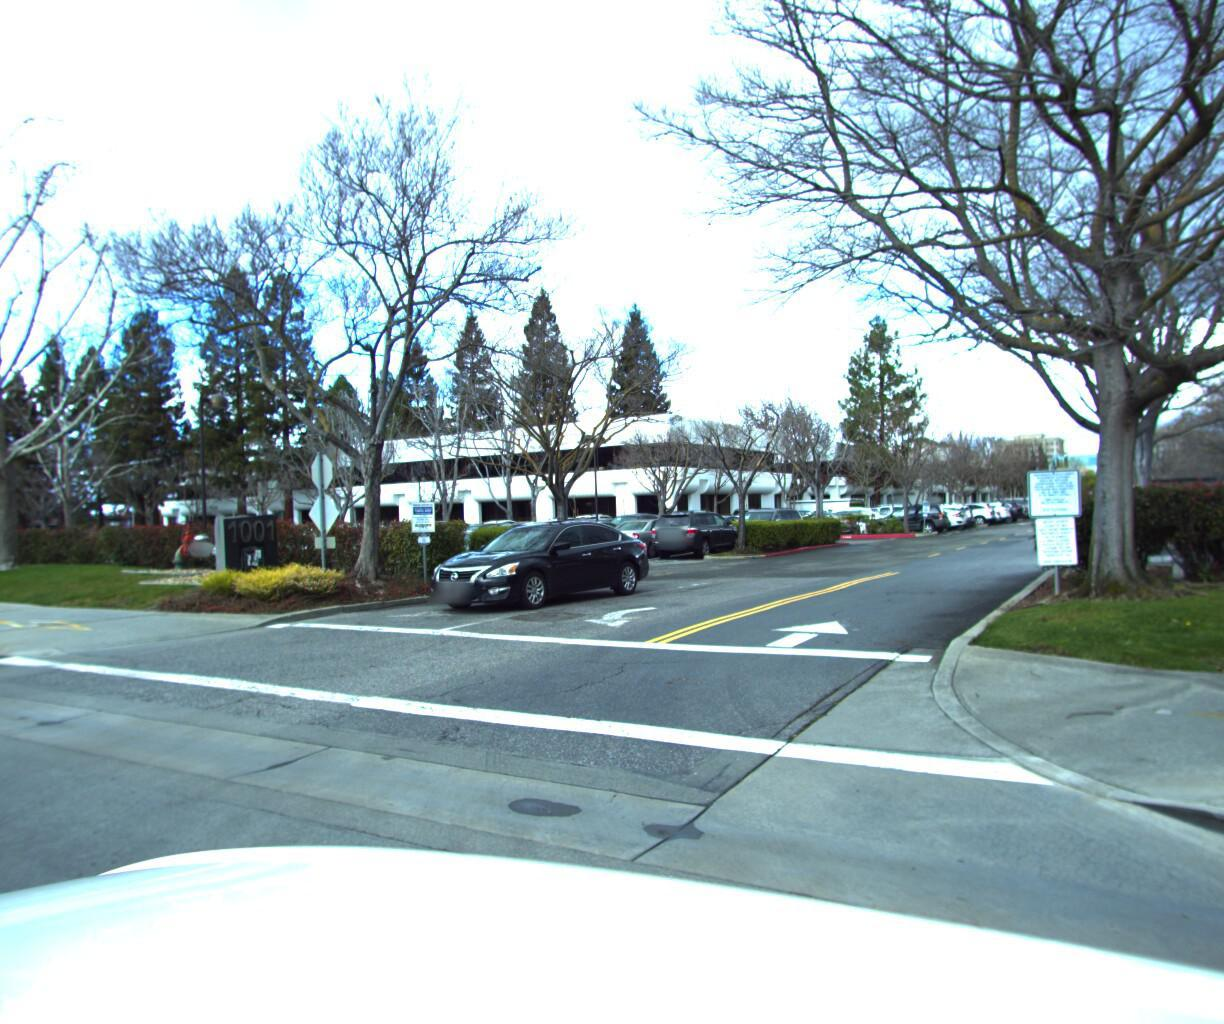car: (410, 513, 668, 618)
